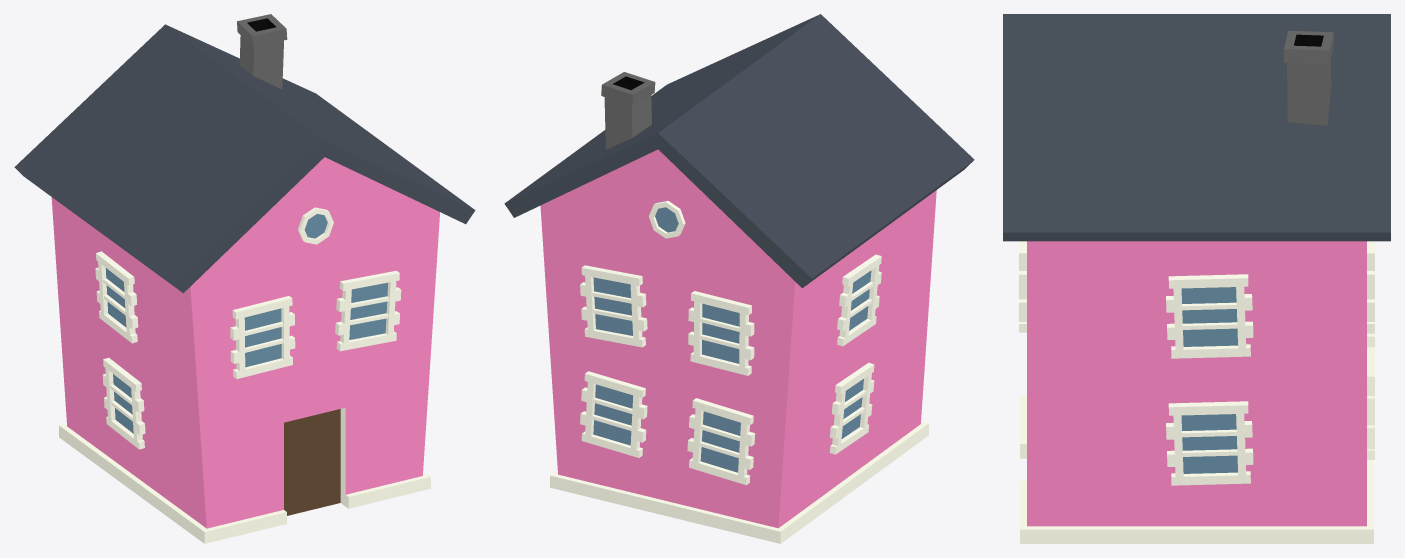
File: house8.gltf
The picture shows the model from 3 angles, left to right: view 1: azimuth 30°, elevation 25°; view 2: azimuth 150°, elevation 25°; view 3: azimuth 270°, elevation 25°; orthographic projection. The views are drawn at different scales.
Parts seen in each view (by area): view 1: h2.007; view 2: h2.007; view 3: h2.007.
Part boxes in pixels (box(x1,y1,x2,y2)): h2.007: box(14, 14, 475, 543); h2.007: box(504, 14, 974, 543); h2.007: box(1003, 14, 1390, 543).
Size of the model in its own units: 7.12 by 8.78 by 6.51.
1 material, 1 textured.
